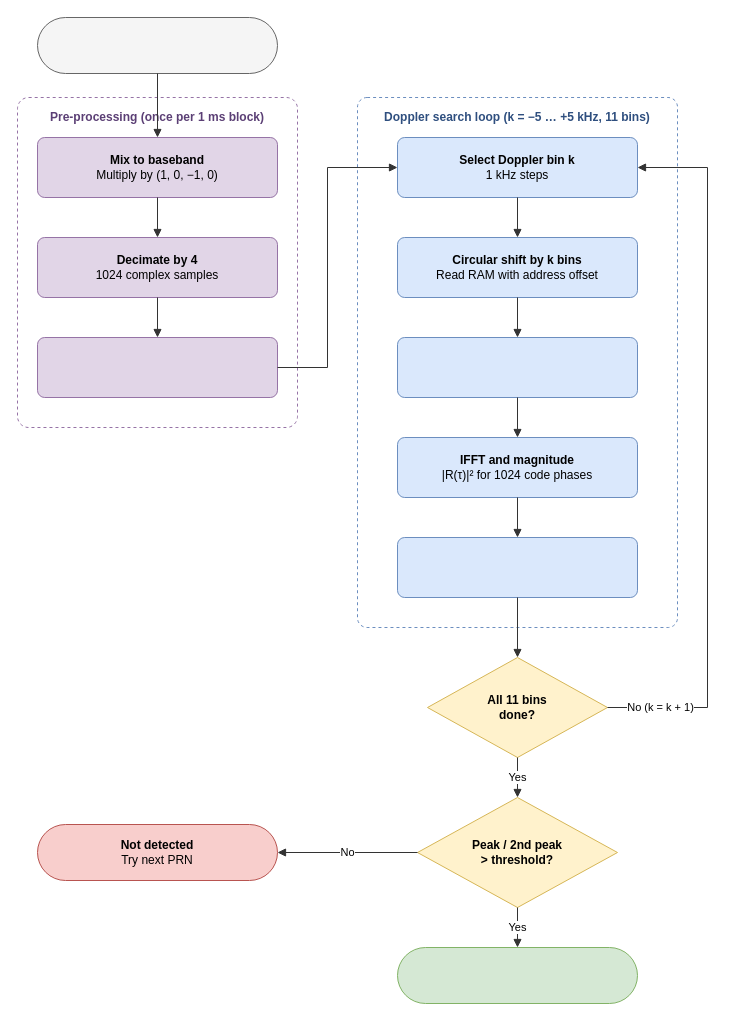
Some shapes in this 733 by 1021 pixel diagram are drawn without their labels. Each missing label, with the centre of its shape:
1 ms IF signal in 4096 samples @ 4.096 MHz: point (157, 45)
1024-point FFT Store spectrum in RAM: point (157, 367)
Complex multiply × conj(FFT(PRN)) from ROM: point (517, 367)
Satellite acquired Output Doppler bin and code phase: point (517, 975)
Update peak tracker Keep max and 2nd-max peak: point (517, 567)
